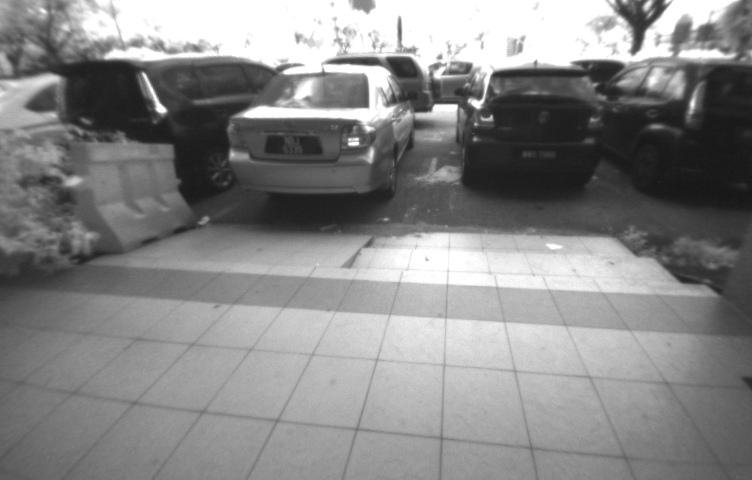down_steps: (347, 220, 721, 313)
mixed_gradient: (292, 217, 401, 303)
